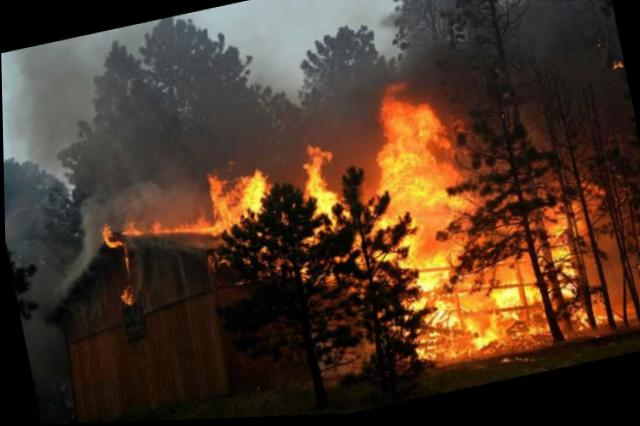fire: (99, 47, 622, 420)
